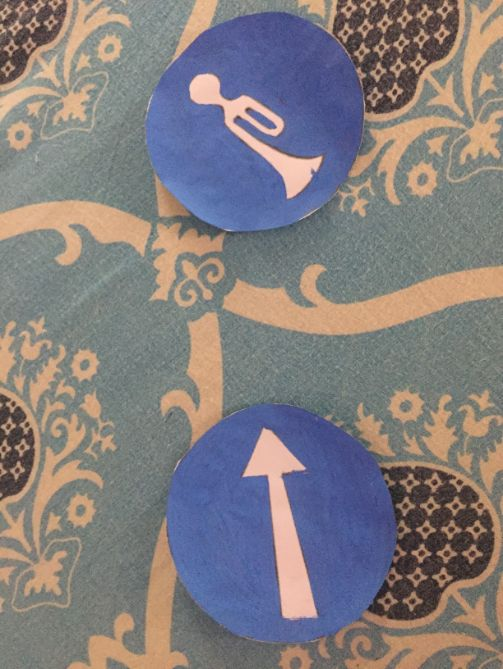blow-horn: (149, 13, 368, 232)
keep-left: (166, 405, 404, 643)
